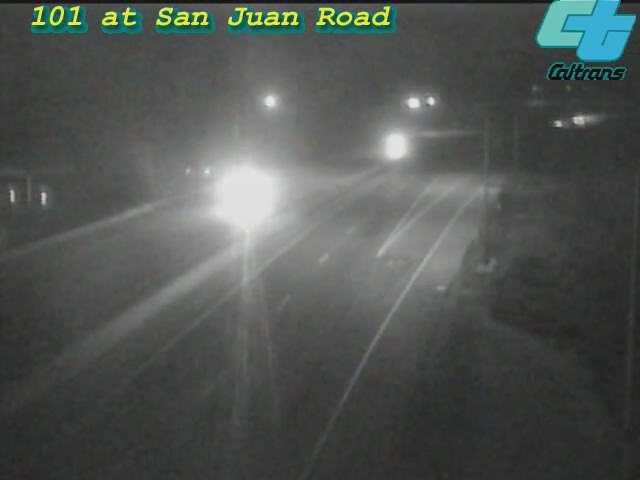vehicle: (192, 156, 272, 236), (367, 122, 417, 172), (561, 94, 611, 144), (536, 97, 586, 147)
